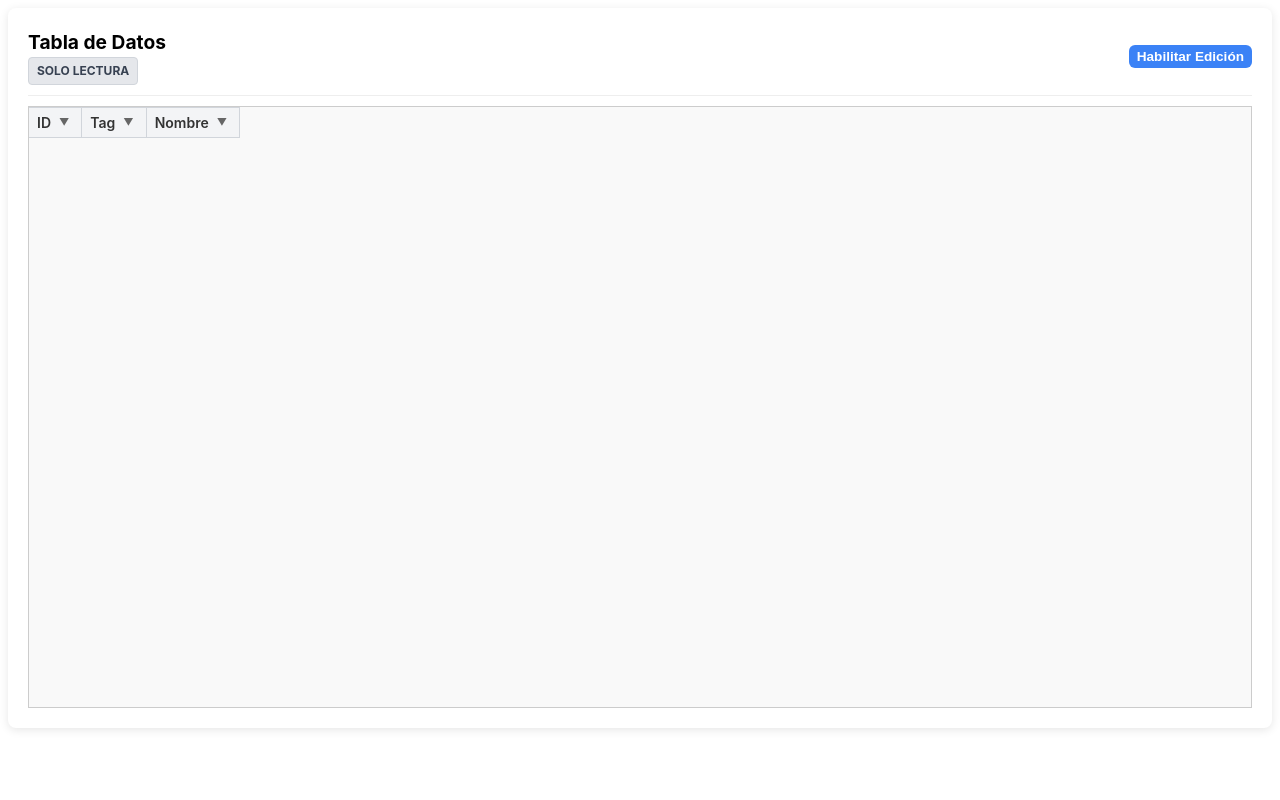
it: ExcelGrid: filtro local › el orden se indica en el encabezado
Click the icon with class "filter-icon" next to "Nombre": (222, 122) 217,116 -> 227,128
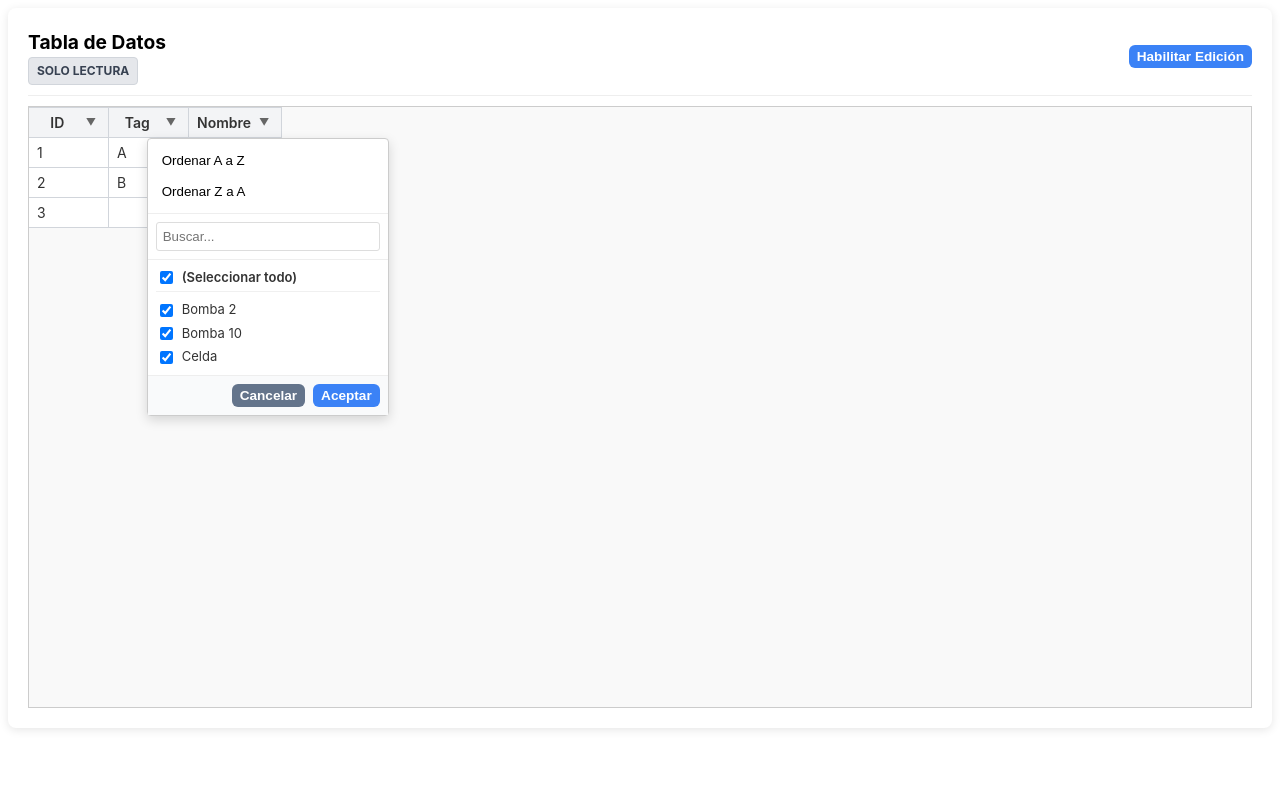
Click the button with class "menu-btn" showing "Ordenar Z a A": (268, 191) 156,178 -> 380,205
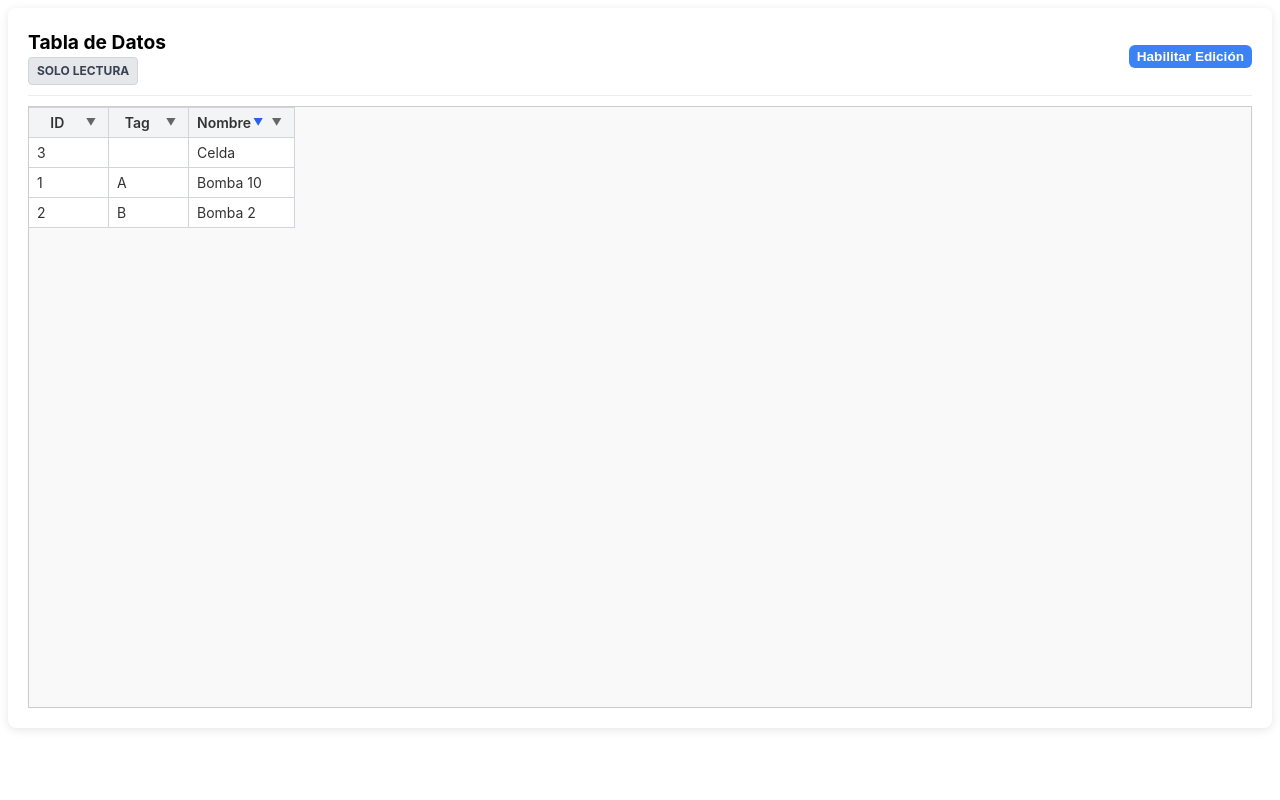
Expected: the text with class "sort-indicator" reads "▼", 253,116 -> 263,128
